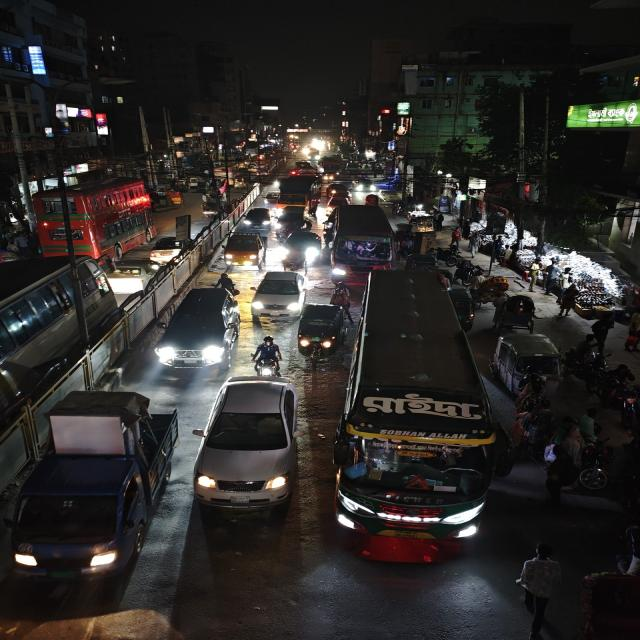bicycle: (250, 334, 284, 377)
bus: (333, 269, 504, 566), (0, 254, 115, 476), (29, 175, 154, 260), (325, 204, 397, 282)
car: (196, 374, 305, 514), (155, 286, 242, 374), (249, 268, 309, 318), (222, 230, 266, 270), (282, 226, 322, 264), (148, 236, 194, 266), (274, 207, 310, 235), (239, 206, 274, 230), (328, 181, 354, 197)
cng: (491, 331, 566, 392), (295, 303, 348, 359), (451, 286, 476, 329)
motorcycle: (574, 440, 617, 494), (600, 367, 640, 419), (249, 334, 284, 376)
pedestrian: (512, 539, 563, 637), (539, 440, 573, 500), (559, 415, 587, 460), (576, 407, 602, 447), (588, 313, 618, 347), (555, 280, 581, 318), (623, 306, 640, 356)
pickup_van: (3, 387, 172, 581)
rickshaw: (574, 568, 640, 639), (492, 293, 538, 331)
truck: (272, 175, 321, 215)
